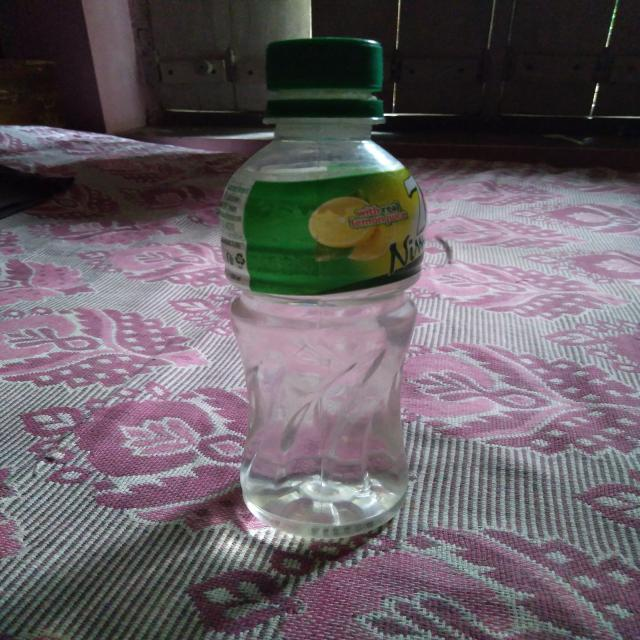good: (222, 32, 434, 554)
